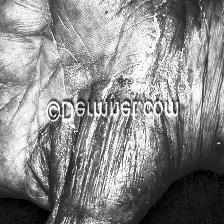Non-Cancerous Skin Condition: (47, 128, 149, 224), (126, 0, 216, 96)
